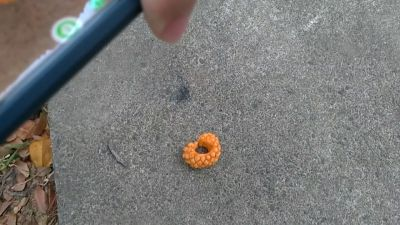eggs: (182, 133, 222, 170)
